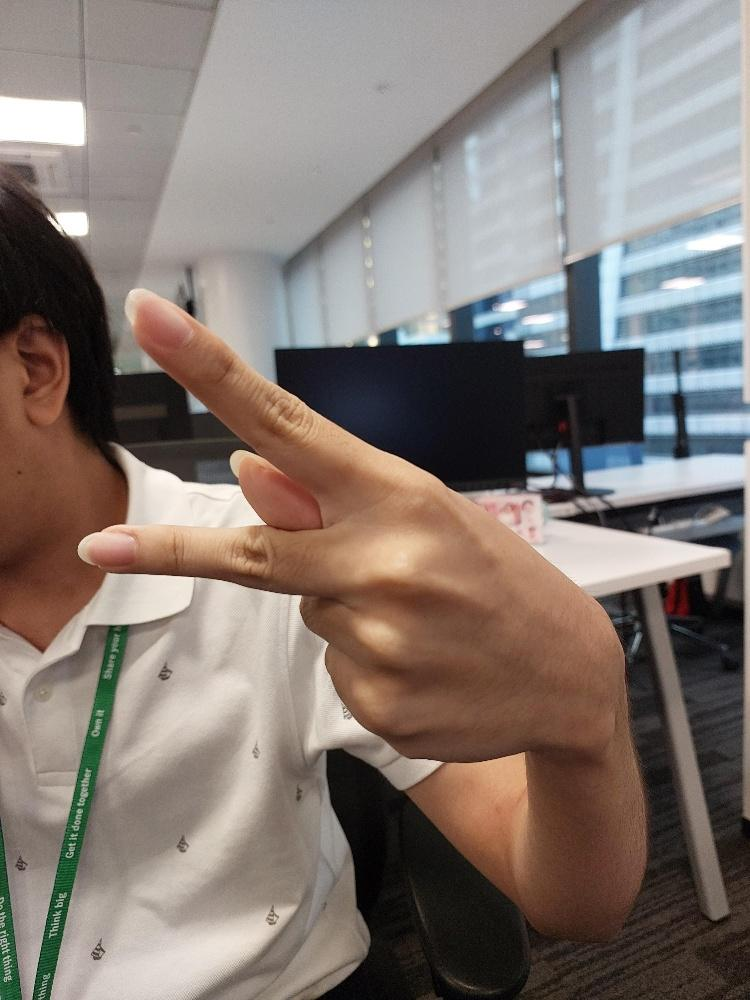k: (81, 286, 596, 761)
